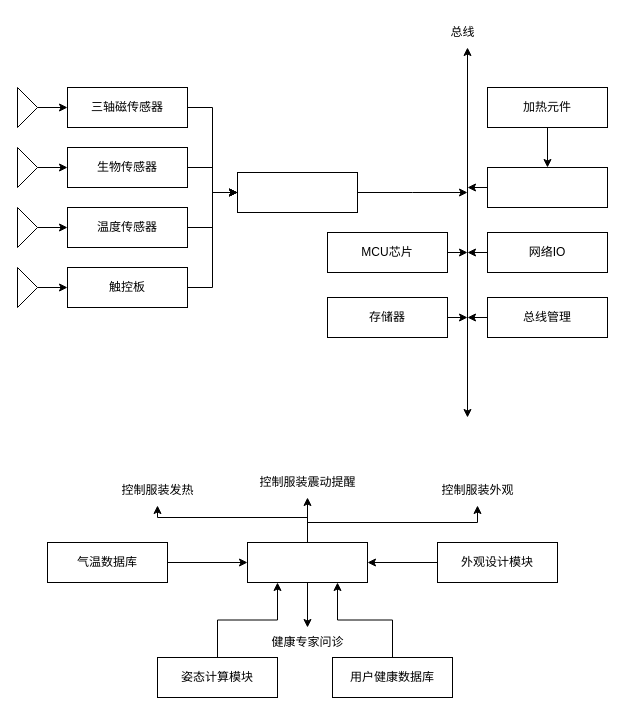
Some shapes in this 625 by 715 pixel diagram are drawn without their labels. The centre of each missing label's shape, as x and y in pixels:
"APP程序" belongs at (307,562).
"导电纤维" belongs at (547,187).
"输入缓存" belongs at (297,192).
